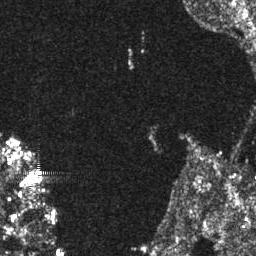ship: (18, 170, 38, 187), (48, 207, 59, 225), (8, 136, 21, 146)
